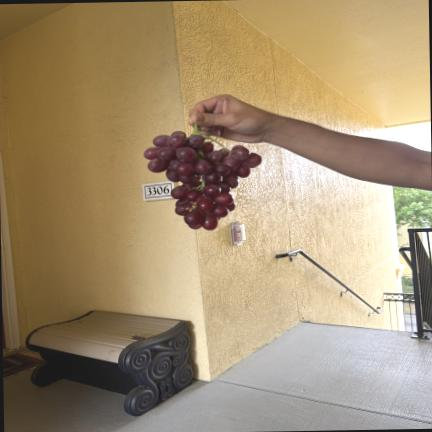grape_cluster: (144, 131, 261, 230)
